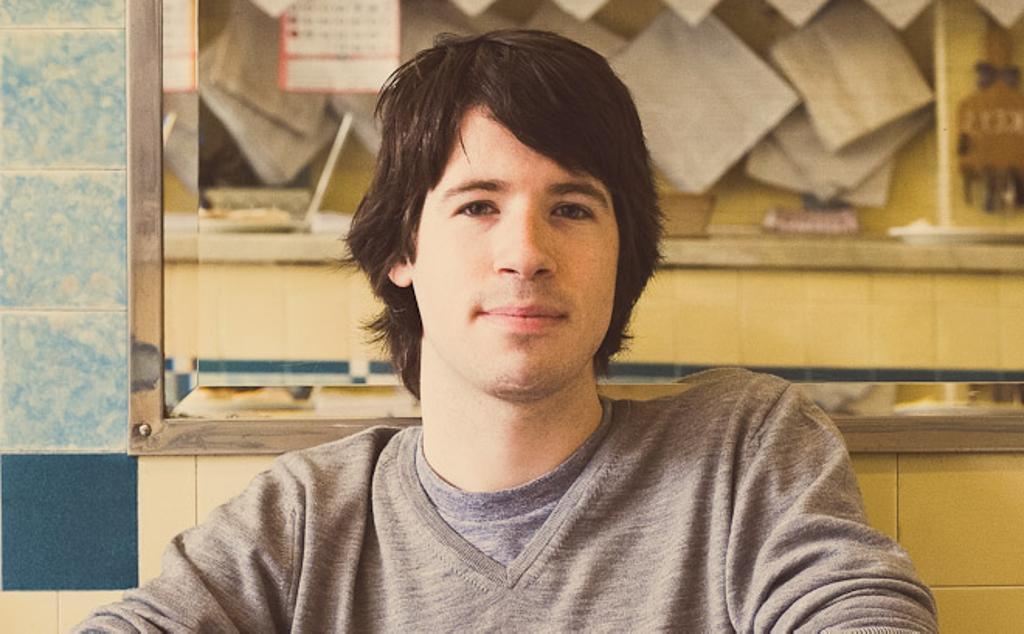face: (419, 101, 621, 387)
